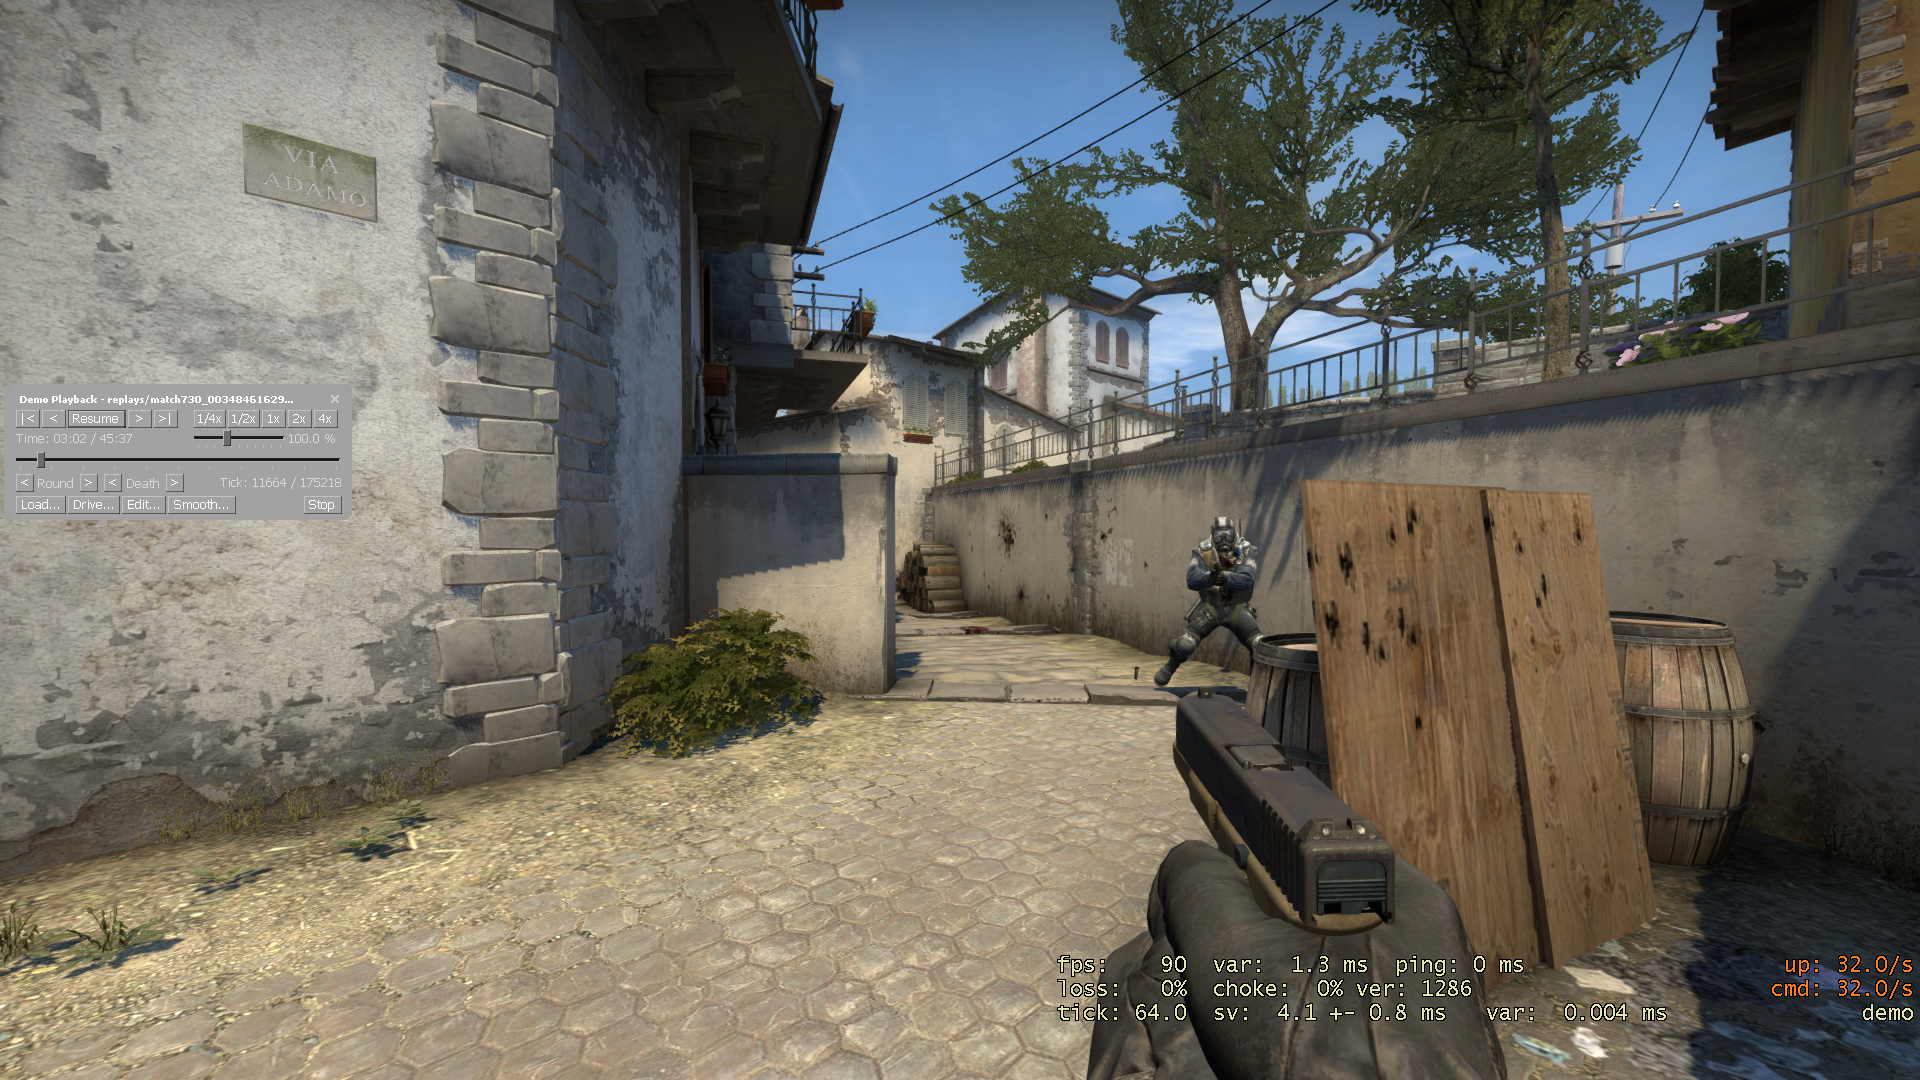ct: (1155, 516, 1265, 692)
